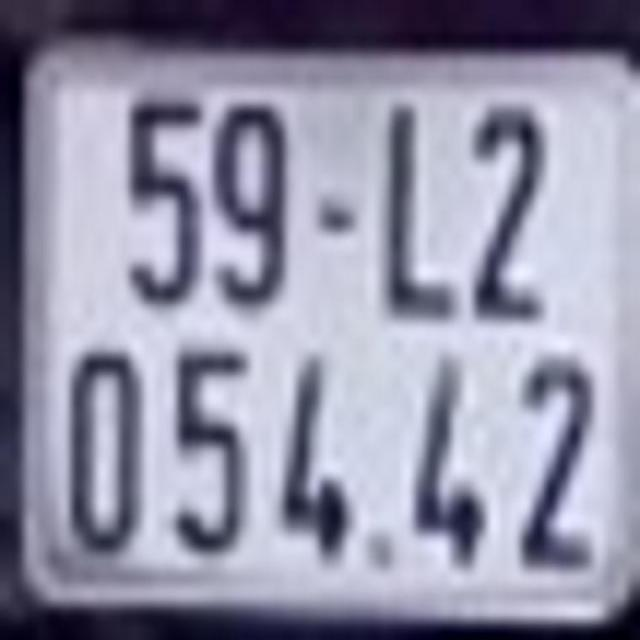0: (64, 341, 140, 558)
2: (466, 98, 548, 328), (520, 350, 596, 580)
4: (406, 344, 488, 575), (274, 347, 353, 567)
5: (125, 91, 206, 311), (172, 336, 247, 554)
9: (208, 86, 291, 308)
L: (376, 92, 459, 322)
